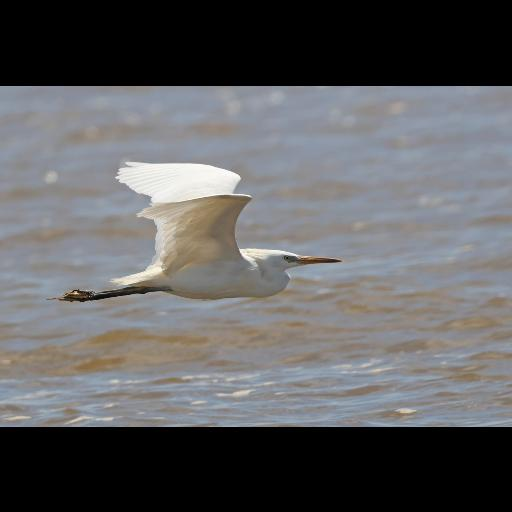chinese_egret: (44, 160, 346, 304)
